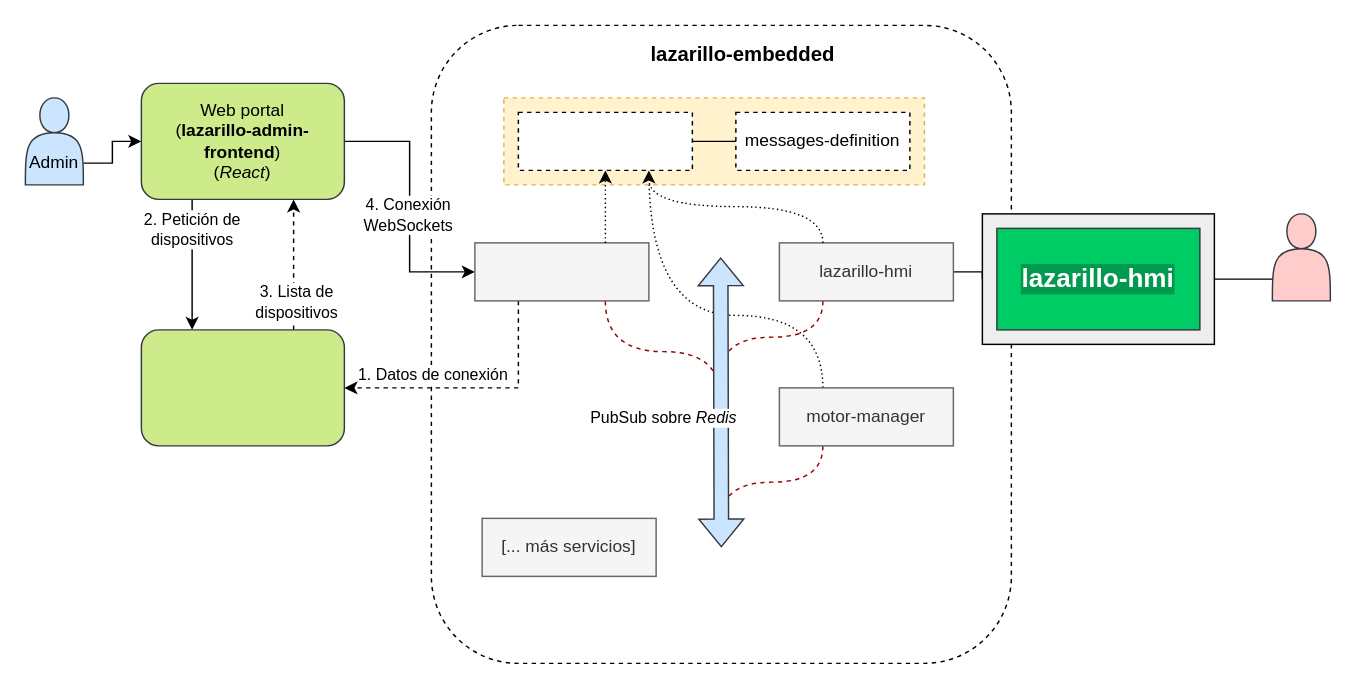
Some shapes in this 1356 by 689 pixel diagram are drawn without their labels. Each missing label, with the box of its shape:
Final user: (1271, 212, 1330, 301)
Intermediario ( lazarillo-admin-backend ) ( Python/Flask ): (140, 328, 344, 446)
service-base: (517, 111, 692, 170)
web-gateway: (473, 241, 649, 301)
